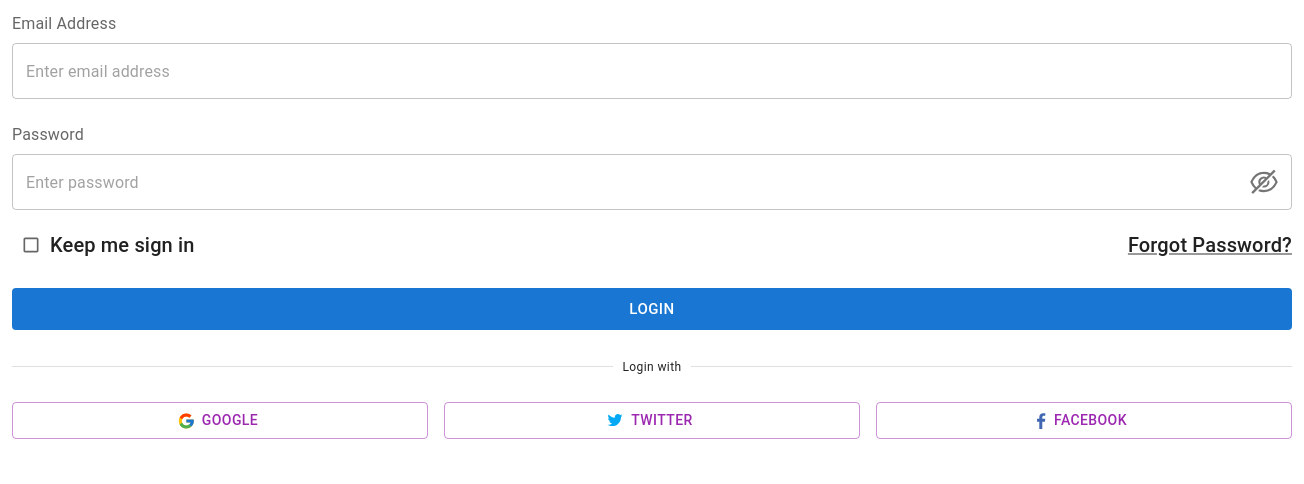
Test case: Error mess required should show when type empty password
The image size is (1304, 484).
Focus the password field with placeholder "Enter password" at (621, 182), box [12, 154, 1230, 210]
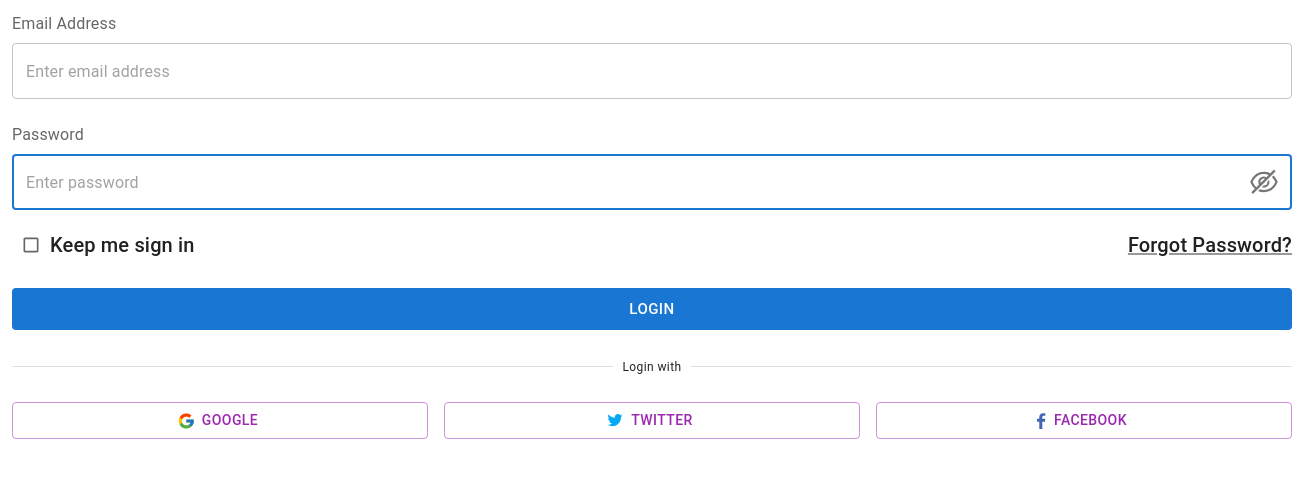
Leave the password field with placeholder "Enter password", box [12, 154, 1230, 210]
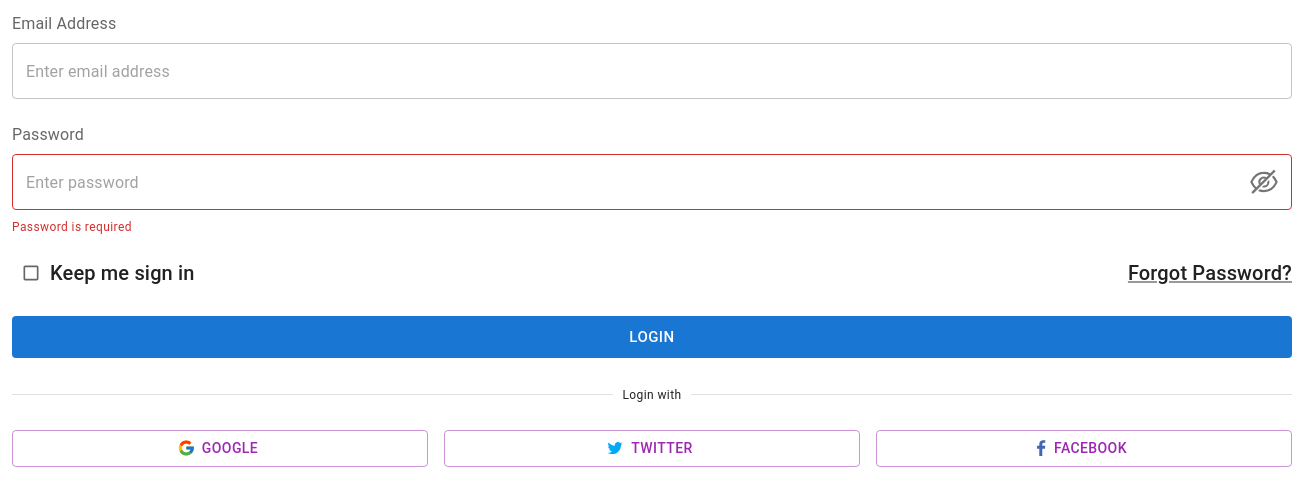
Now the text "Password is required" is shown, box [12, 220, 132, 234]
